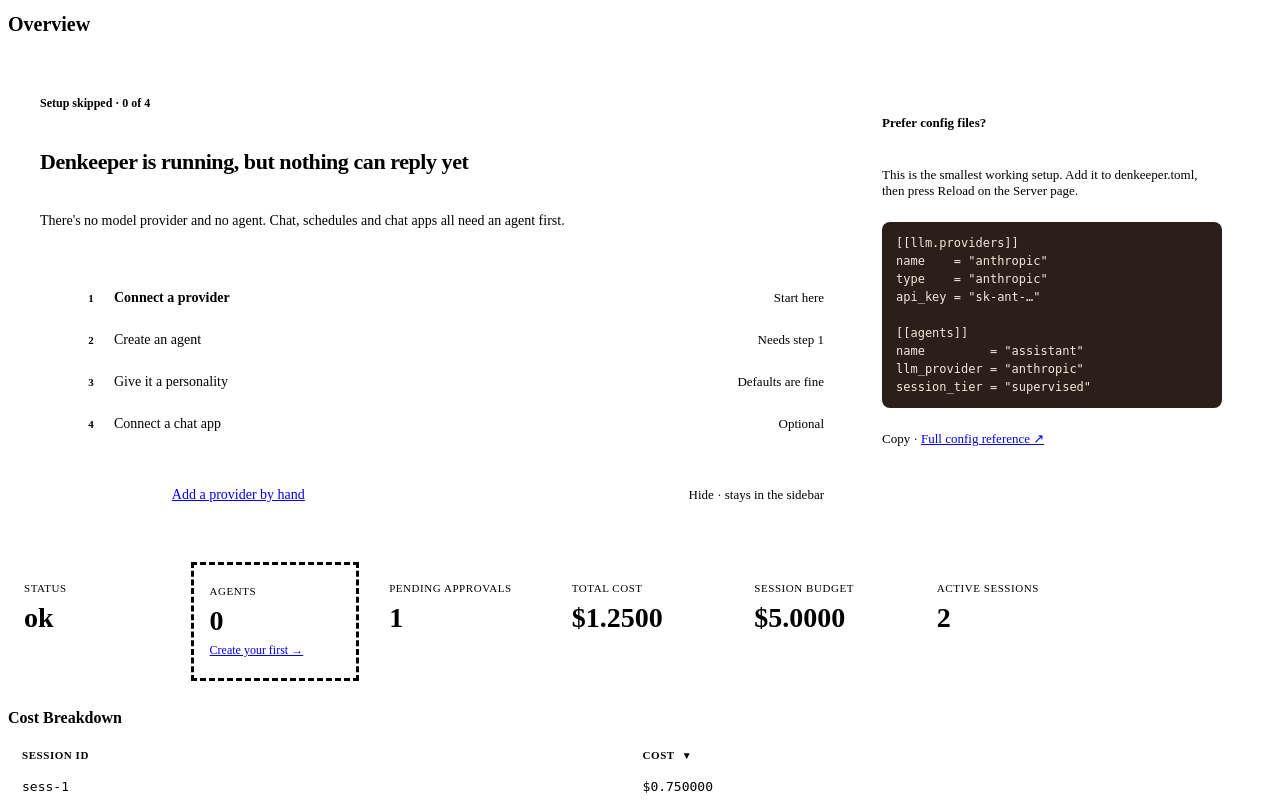
Test: Overview page › after a skip, the setup card replaces the checklist and highlights the next step
Expected: the element with test id "setup-card" shows "Setup skipped · 0 of 4", [40,96,150,110]
Expected: the element with test id "setup-card" shows "nothing can reply yet", [40,149,468,174]
Click the button with test id "setup-card-hide".
click(756, 495)  # box [689,487,824,503]
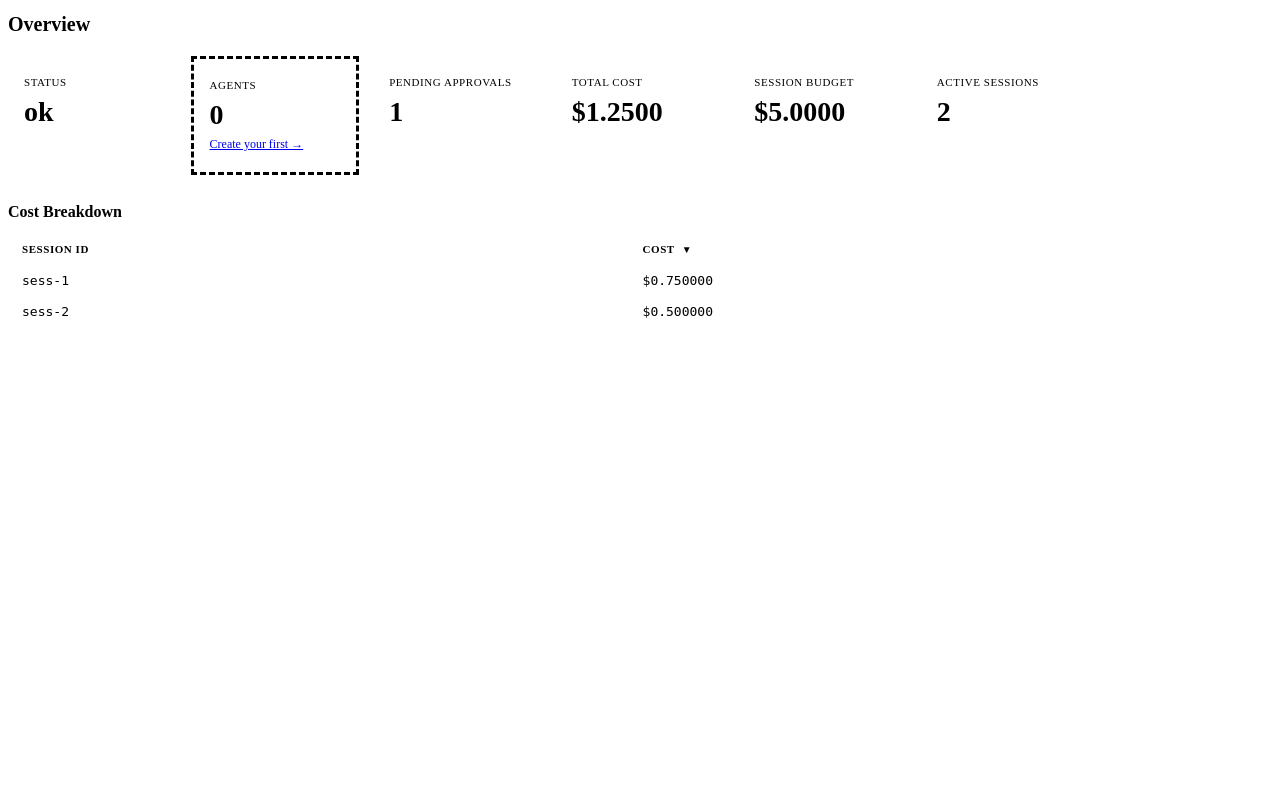
Expected: the element with test id "setup-card" is gone
